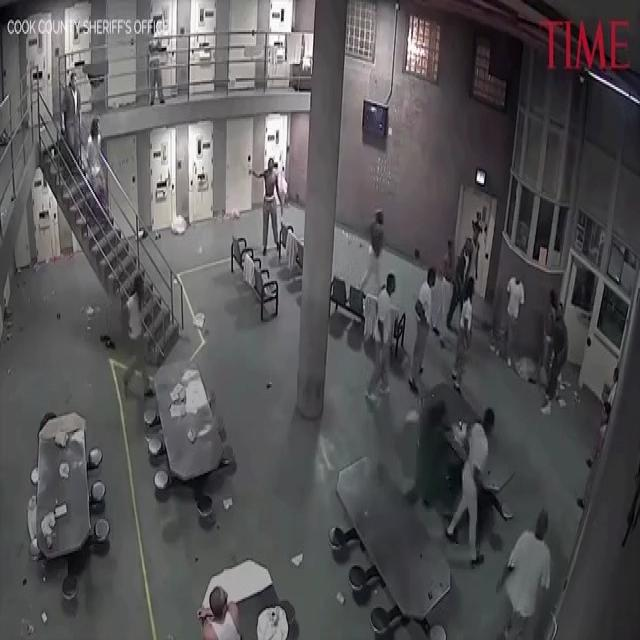fight: (544, 286, 564, 418)
